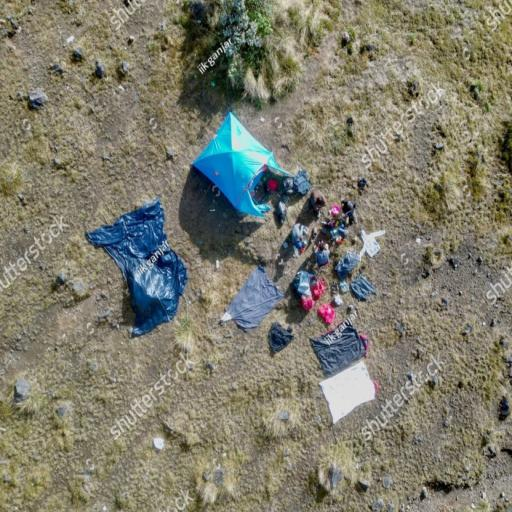tent: (192, 113, 296, 225)
